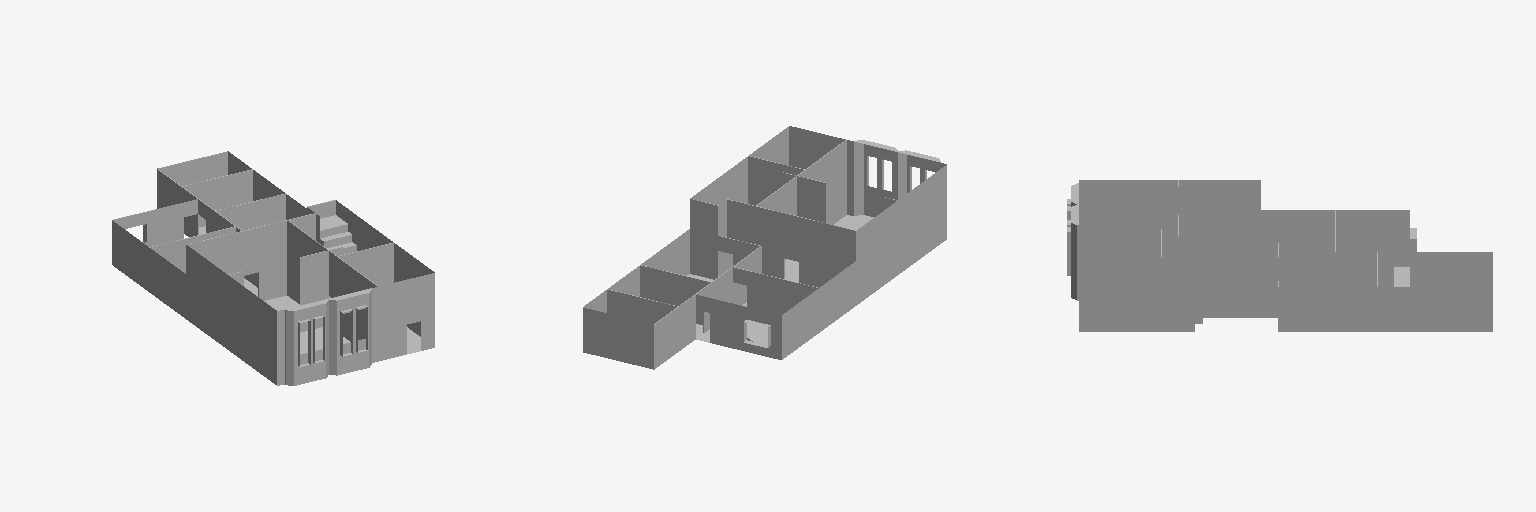
File: INTsge.obj
3 views of the same model, side by side, from view 1: azimuth 30°, elevation 25°; view 2: azimuth 150°, elevation 25°; view 3: azimuth 270°, elevation 25° (orthographic).
Visible parts, largest first — view 1: Cube; view 2: Cube; view 3: Cube.
Part boxes in pixels (bbox=[...]): Cube: bbox=[112, 151, 434, 385]; Cube: bbox=[583, 126, 946, 369]; Cube: bbox=[1067, 180, 1492, 331].
Bounding box in the file's own units: 22 × 10 × 51.51.